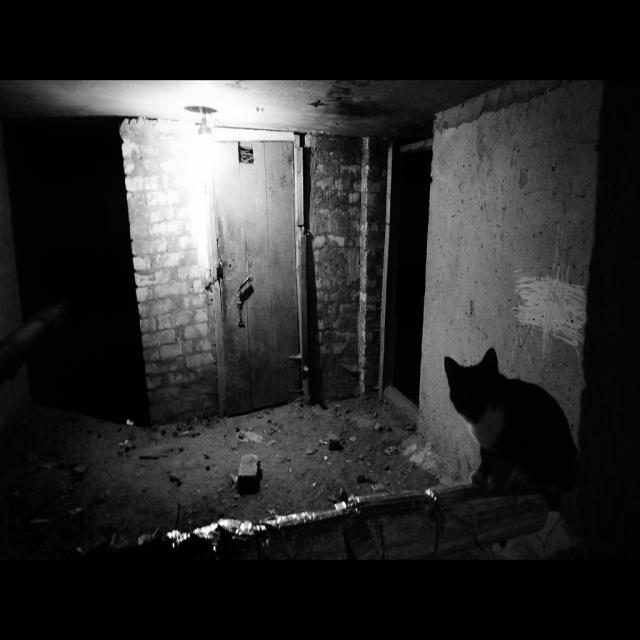Cat: (421, 325, 587, 542)
